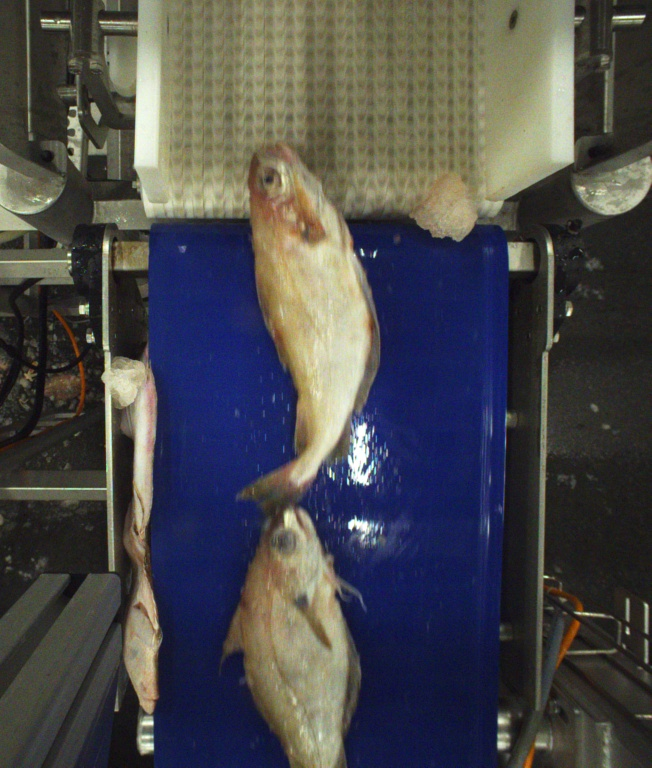BIB: (238, 143, 383, 509)
